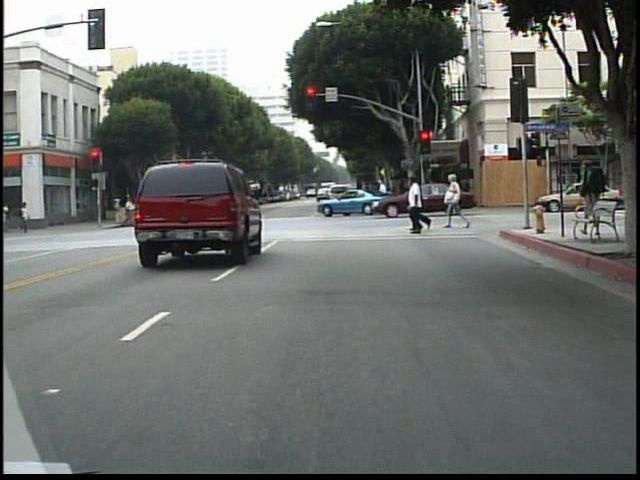person: (574, 153, 606, 205), (442, 173, 469, 230), (407, 177, 432, 234), (406, 177, 423, 232), (251, 181, 269, 229), (375, 177, 397, 215), (143, 190, 159, 232), (356, 179, 373, 216), (402, 179, 418, 215), (20, 202, 36, 237), (122, 193, 136, 230), (2, 200, 15, 235)
